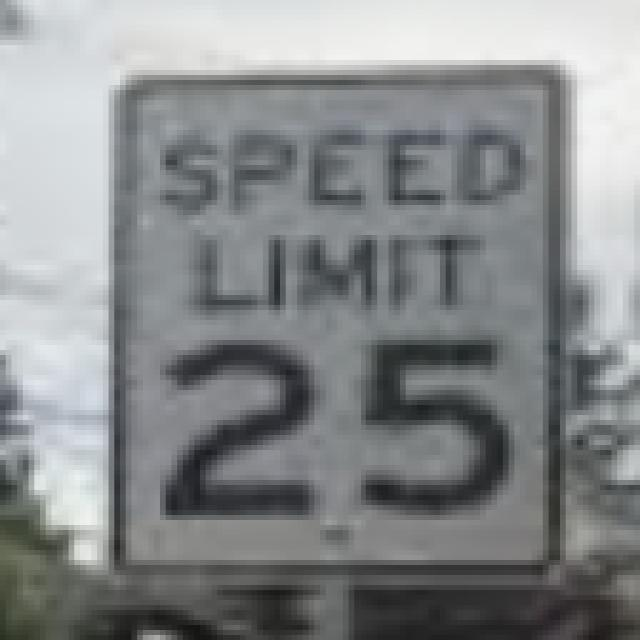speedLimit25: (111, 69, 566, 585)
